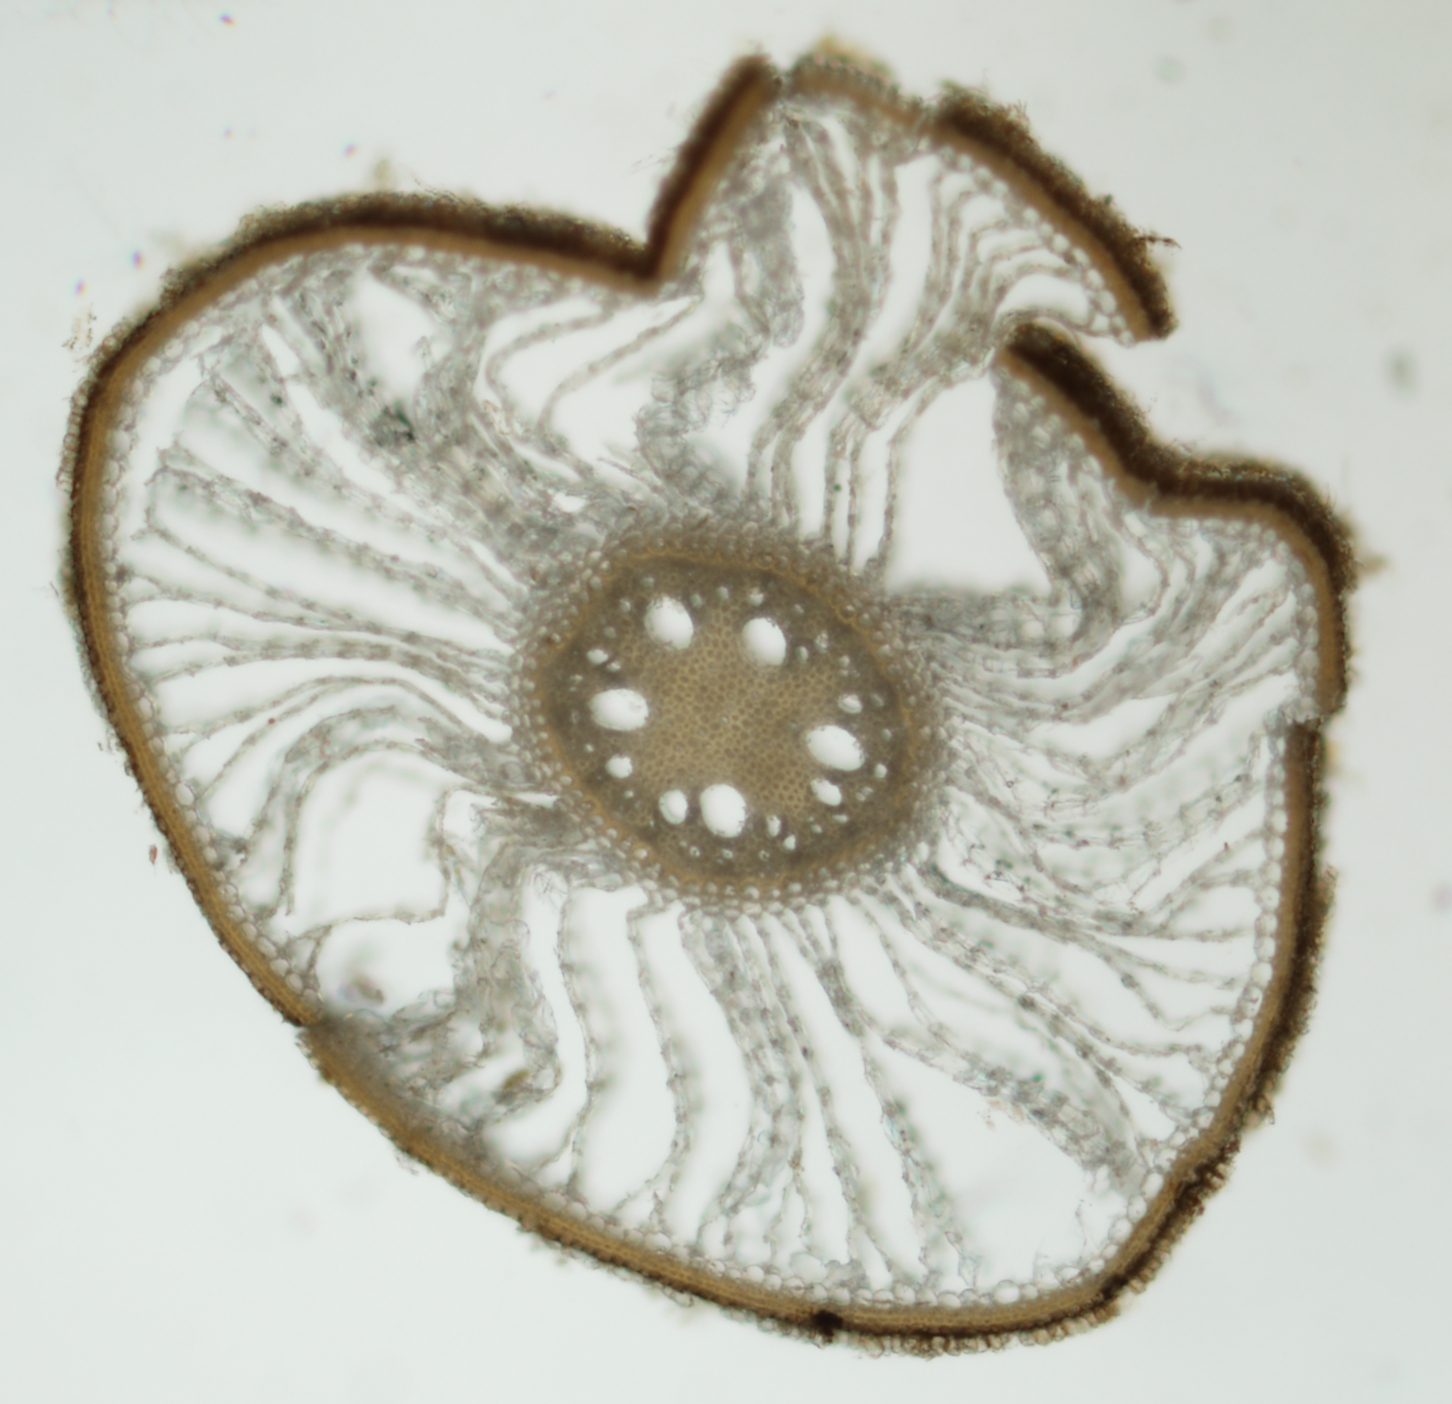lm: (804, 723, 863, 771), (646, 592, 694, 649), (589, 687, 648, 731), (699, 783, 745, 837), (740, 616, 786, 668)
